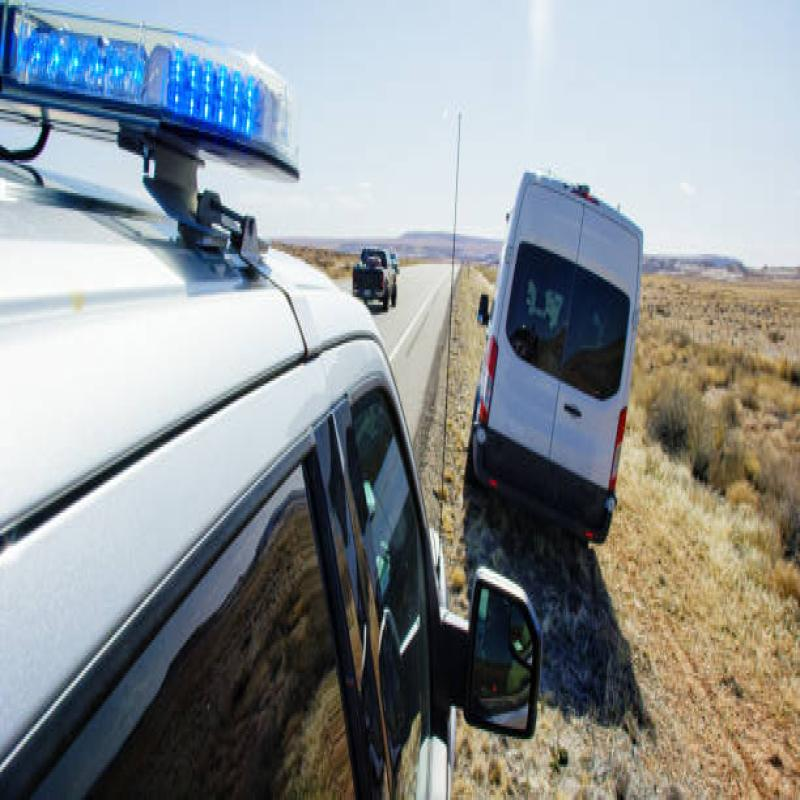AmbulanceSiren: (1, 0, 302, 220)
car: (489, 140, 650, 567)
